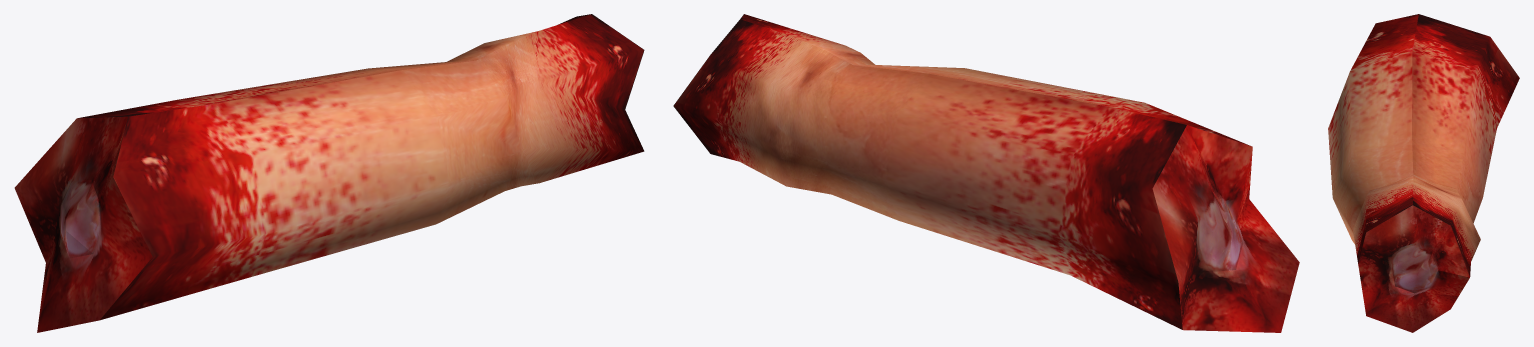
Rendered from female_lt_uparm.fbx.
3 views of the same model, side by side, from view 1: azimuth 30°, elevation 25°; view 2: azimuth 150°, elevation 25°; view 3: azimuth 270°, elevation 25° (orthographic). The views are drawn at different scales.
Parts seen in each view (by area): view 1: fm_lt_uparm_gib; view 2: fm_lt_uparm_gib; view 3: fm_lt_uparm_gib.
Part boxes in pixels (left/top/right/bottom): fm_lt_uparm_gib: left=14, top=14, right=644, bottom=332; fm_lt_uparm_gib: left=673, top=14, right=1299, bottom=332; fm_lt_uparm_gib: left=1328, top=14, right=1519, bottom=332.
Size of the model in its own units: 0.3877 by 0.1208 by 0.1328.
